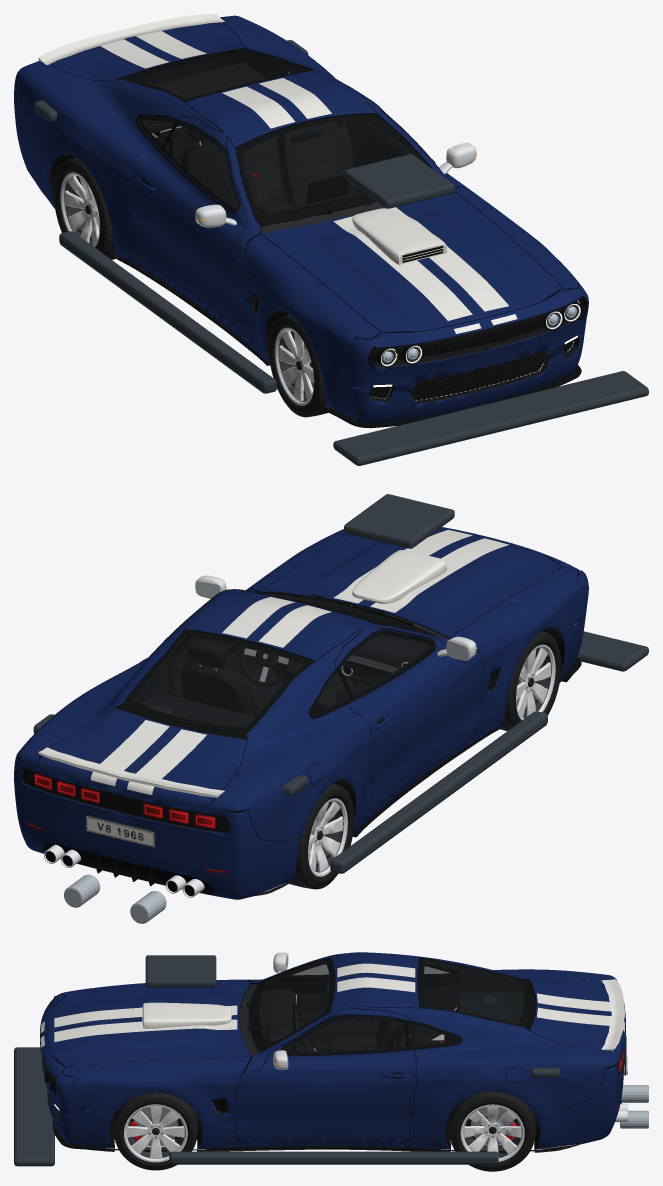
File: car_v8.glb
3 renders of one model, top to bottom at view 1: azimuth 30°, elevation 25°; view 2: azimuth 150°, elevation 25°; view 3: azimuth 270°, elevation 25°, orthographic. The views are drawn at different scales.
Parts seen in each view (by area): view 1: Body, Mod_Splitter, Mod_Skirt_-1, Wheel_FR, Wheel_RR, Mod_Hood; view 2: Body, Mod_Skirt_-1, Wheel_RR, Mod_Hood, Wheel_FR, Mod_Splitter, Steering_Wheel, Mod_Exhaust_1, Mod_Exhaust_-1; view 3: Body, Wheel_RL, Wheel_FL, Mod_Skirt_1, Mod_Splitter, Mod_Hood, Mod_Exhaust_-1, Mod_Exhaust_1.
Part boxes in pixels (box(x1,y1,x2,y2)): Body: box(14, 14, 588, 428); Mod_Splitter: box(333, 371, 648, 465); Mod_Skirt_-1: box(59, 231, 276, 393); Wheel_FR: box(269, 314, 328, 417); Wheel_RR: box(54, 157, 119, 259); Mod_Hood: box(344, 154, 454, 208); Body: box(14, 527, 588, 899); Mod_Skirt_-1: box(330, 711, 547, 873); Wheel_RR: box(287, 783, 354, 889); Mod_Hood: box(344, 494, 454, 548); Wheel_FR: box(500, 631, 561, 731); Mod_Splitter: box(577, 631, 648, 671); Steering_Wheel: box(239, 643, 293, 686); Mod_Exhaust_1: box(64, 874, 100, 907); Mod_Exhaust_-1: box(130, 891, 166, 923); Body: box(40, 952, 627, 1153); Wheel_RL: box(449, 1091, 535, 1171); Wheel_FL: box(113, 1092, 197, 1170); Mod_Skirt_1: box(169, 1151, 498, 1164); Mod_Splitter: box(14, 1047, 54, 1166); Mod_Hood: box(145, 955, 216, 987); Mod_Exhaust_-1: box(621, 1085, 648, 1102); Mod_Exhaust_1: box(620, 1110, 648, 1128).
Bounding box in the file's own units: 2.24 × 1.44 × 5.26.
Materials: 60 (11 with a texture image).
